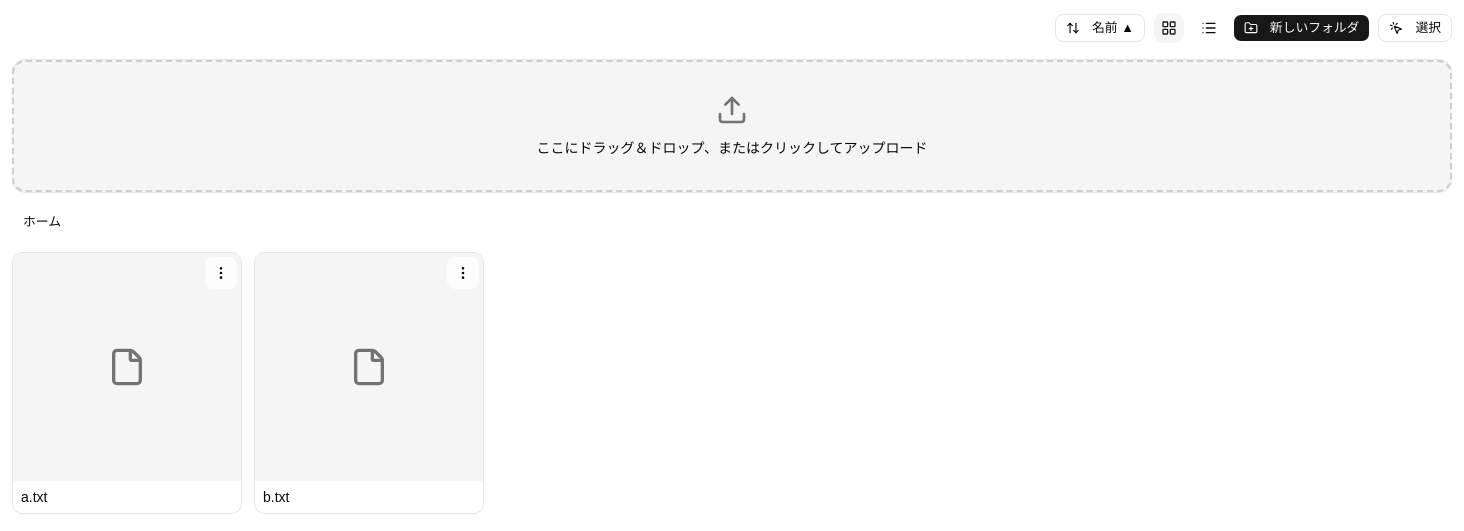
Scenario: FileBrowser › 複数選択・一括操作 › 「選択」ボタンで選択モードに入りツールバーが表示される
This screenshot has width=1464, height=531.
Expected: the text "a.txt" is shown, [21,489,48,505]
Click the button "選択" at (1415, 28), box [1378,14,1452,42]
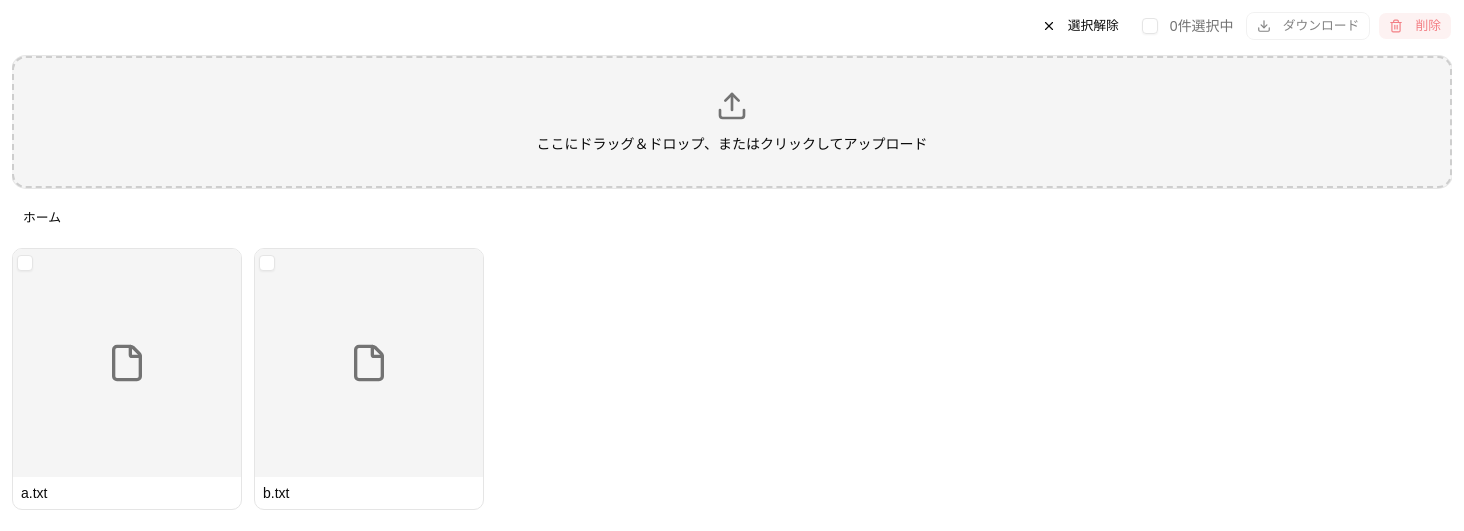
Expected: the text "0件選択中" is shown, [1170,16,1234,36]
